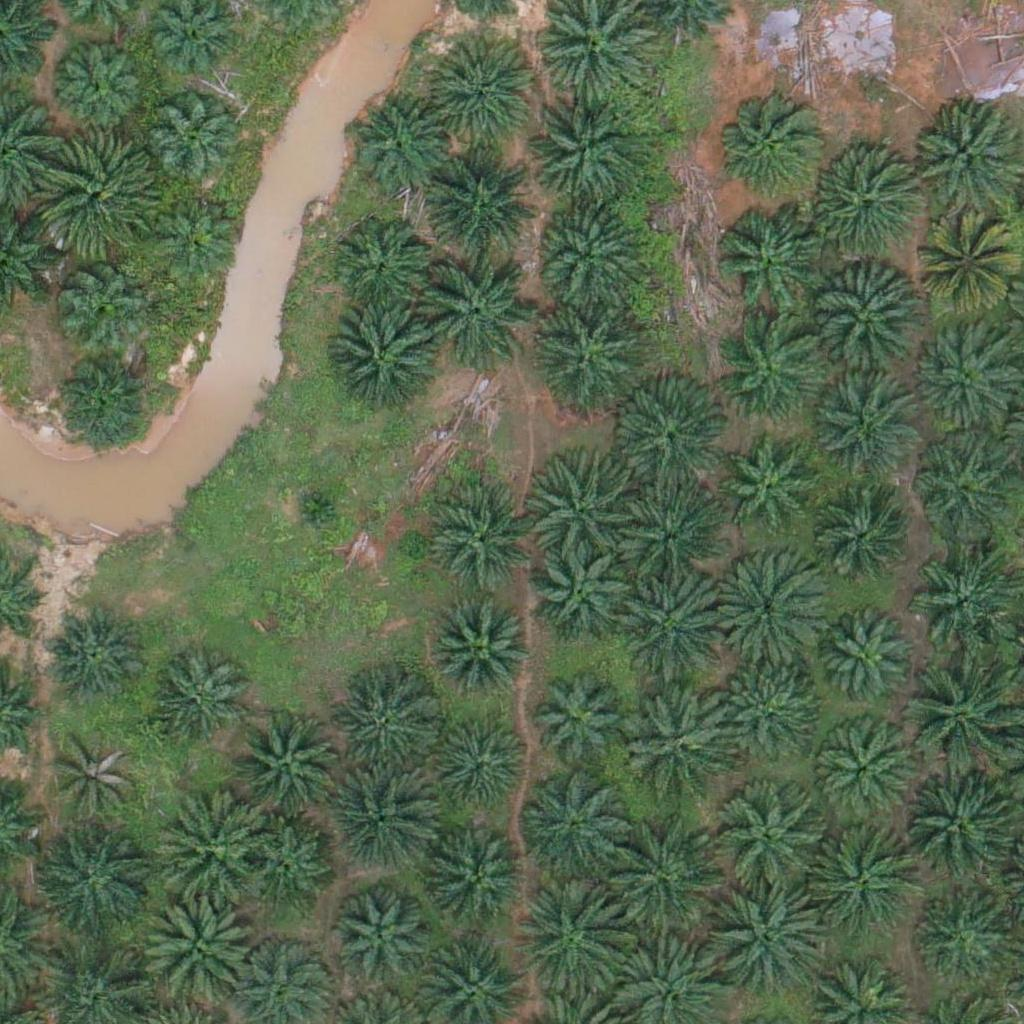Kelapa_Sawit: (903, 767, 1016, 881), (710, 551, 823, 665), (619, 567, 732, 681), (510, 884, 623, 998), (536, 194, 649, 308), (527, 99, 640, 213), (425, 35, 538, 149), (902, 661, 1015, 774), (811, 267, 924, 380), (805, 825, 918, 938), (713, 209, 826, 322), (715, 786, 828, 899), (624, 685, 737, 798), (324, 306, 437, 419), (325, 764, 438, 877), (41, 136, 154, 249), (716, 314, 828, 428), (517, 768, 629, 882), (714, 86, 826, 200), (424, 143, 536, 257), (908, 540, 1020, 653), (717, 883, 829, 996), (617, 389, 729, 502), (606, 818, 718, 931), (528, 297, 640, 410), (528, 445, 640, 558), (416, 254, 528, 367), (230, 708, 342, 821), (153, 791, 265, 904), (140, 889, 252, 1002), (38, 823, 150, 936), (910, 105, 1022, 218), (800, 149, 912, 262), (909, 326, 1009, 427), (911, 438, 1011, 539), (915, 891, 1015, 992), (817, 383, 917, 484), (812, 723, 912, 824), (718, 438, 818, 539), (529, 673, 629, 774), (530, 543, 630, 644), (331, 216, 431, 317), (331, 894, 431, 995), (146, 649, 246, 750), (350, 96, 450, 197), (915, 220, 1015, 320), (809, 497, 909, 597), (720, 670, 820, 770), (620, 486, 720, 586), (431, 494, 531, 594), (432, 603, 532, 703), (432, 719, 532, 819), (428, 835, 528, 935), (334, 679, 434, 779), (52, 351, 152, 451), (43, 604, 143, 704), (52, 35, 152, 135), (822, 617, 910, 706), (242, 822, 330, 910), (56, 258, 144, 346), (153, 193, 241, 281), (52, 735, 139, 823), (151, 101, 238, 189), (289, 481, 339, 532)
